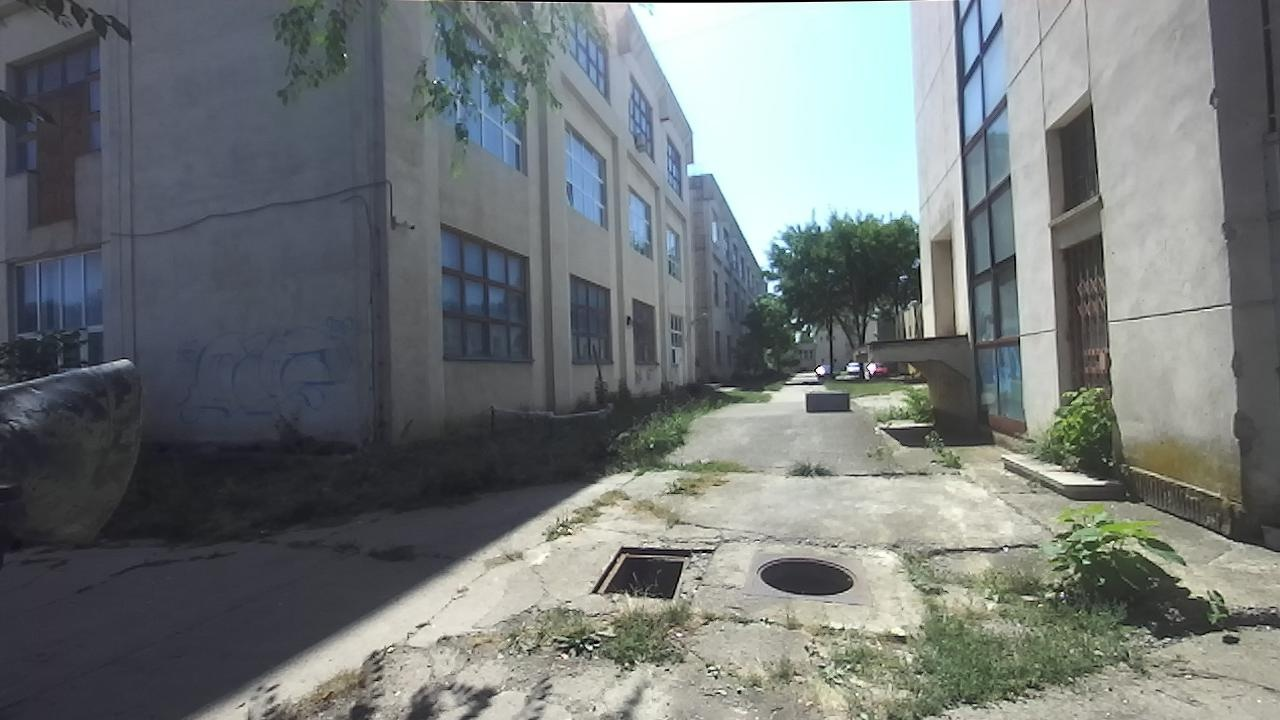drain: (584, 541, 697, 600), (748, 553, 864, 601)
